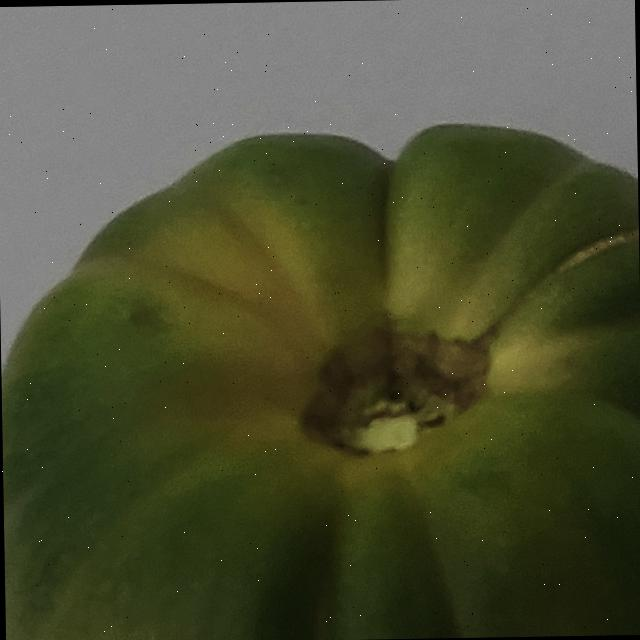tomato: (0, 76, 640, 640)
